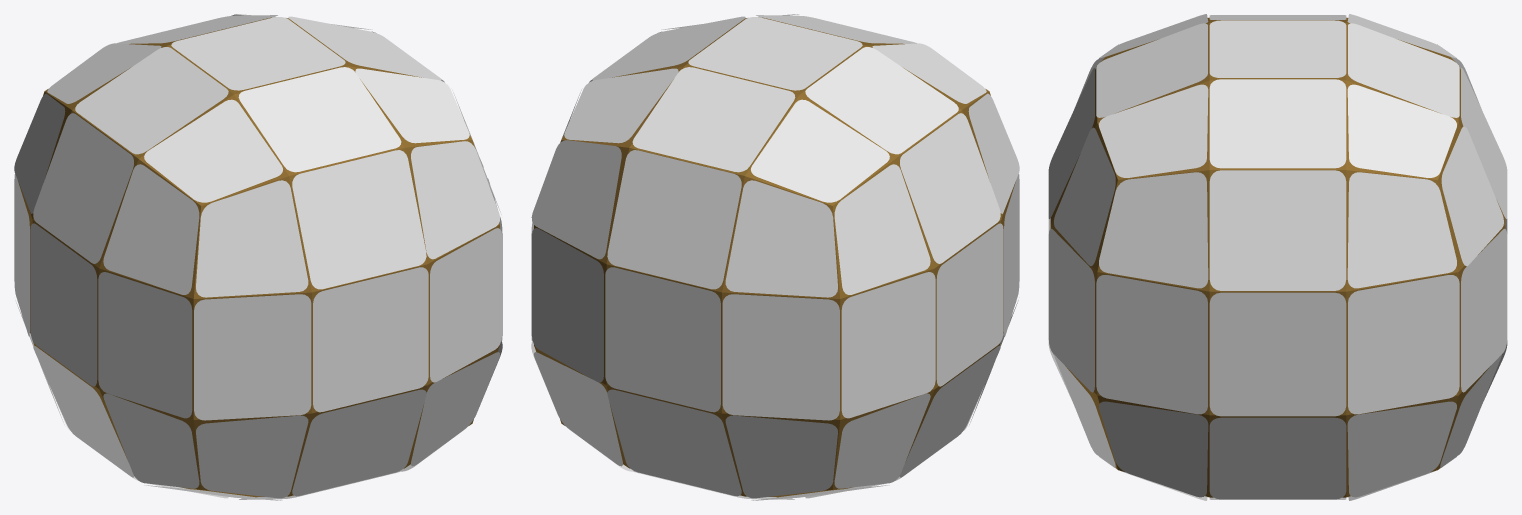
File: Cubo_sfera_v3.fbx
The picture shows the model from 3 angles, left to right: view 1: azimuth 30°, elevation 25°; view 2: azimuth 150°, elevation 25°; view 3: azimuth 270°, elevation 25°; orthographic projection. The views are drawn at different scales.
Visible parts, largest first — view 1: cubo-sfera.003; view 2: cubo-sfera.003; view 3: cubo-sfera.003.
Part boxes in pixels (left/top/right/bottom): cubo-sfera.003: left=14, top=14, right=502, bottom=500; cubo-sfera.003: left=531, top=14, right=1019, bottom=500; cubo-sfera.003: left=1048, top=14, right=1507, bottom=500.
Bounding box in the file's own units: 198 × 198 × 198.
